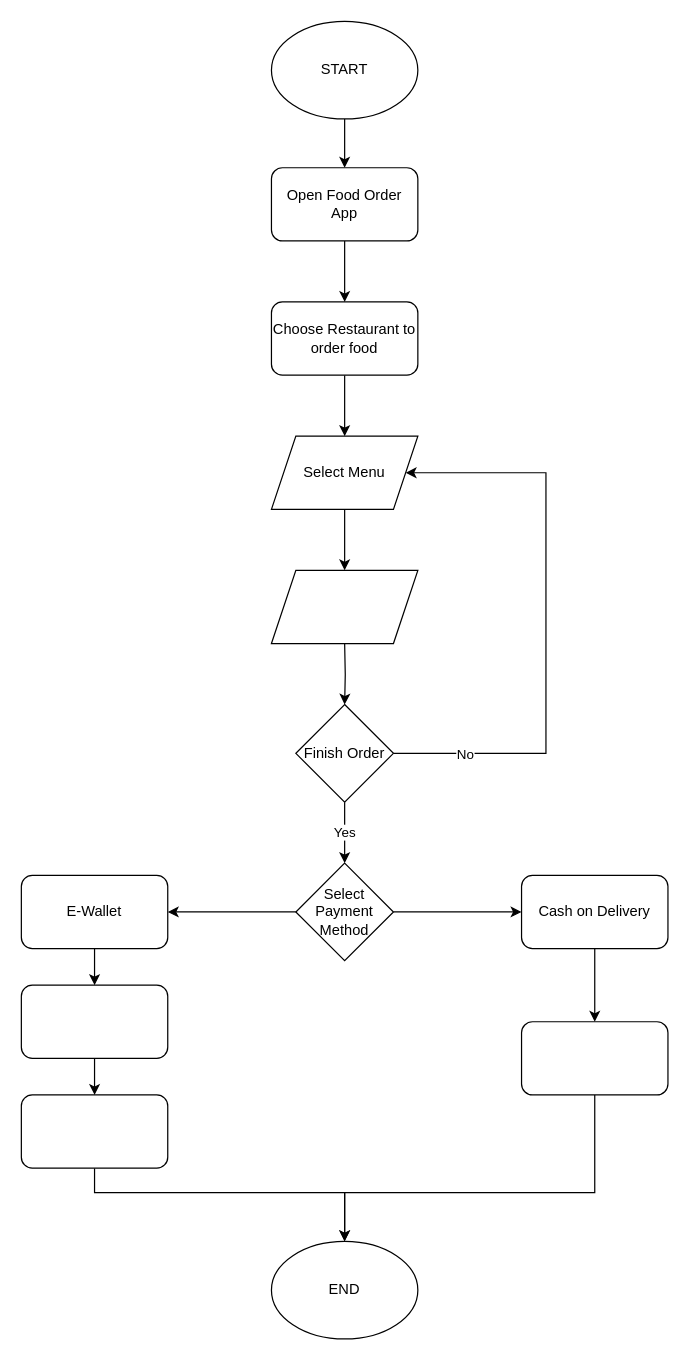
The diagram is 689 pixels wide and 1360 high, and some of its shapes have lost their labels. Here are the shapes that lost their labels. From the top down, the centre of each, then its label:
At pixel 344 606: "Select Quantity of Food".
At pixel 94 1021: "Transfer".
At pixel 594 1058: "Confirmation Payment Method by System".
At pixel 94 1131: "Confirmation Payment by System".
